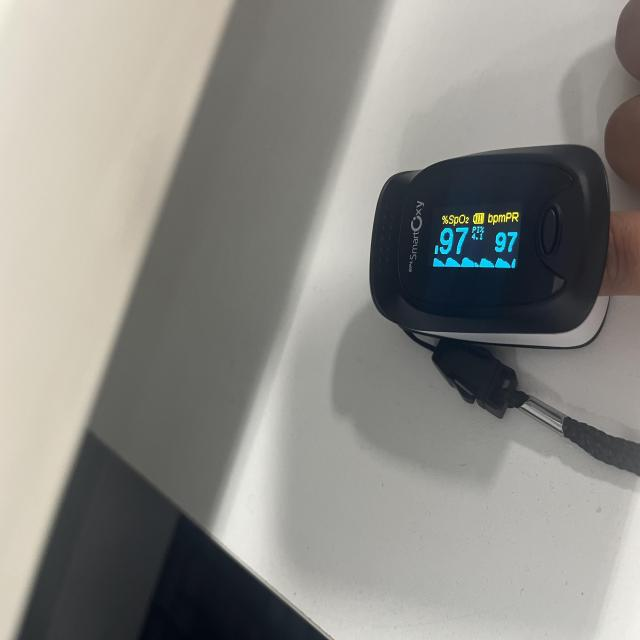spo2: (370, 145, 612, 351)
